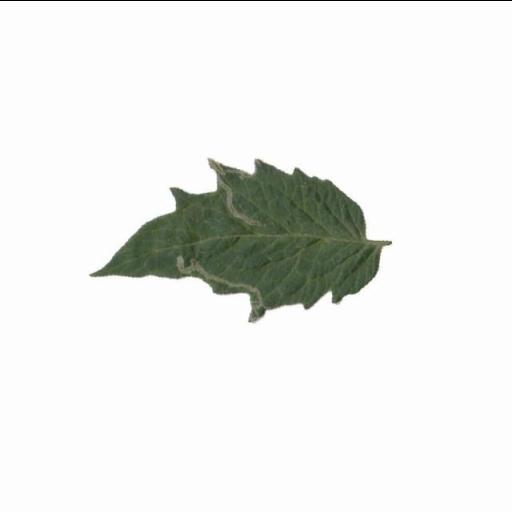disease_tomato: (92, 153, 384, 321)
